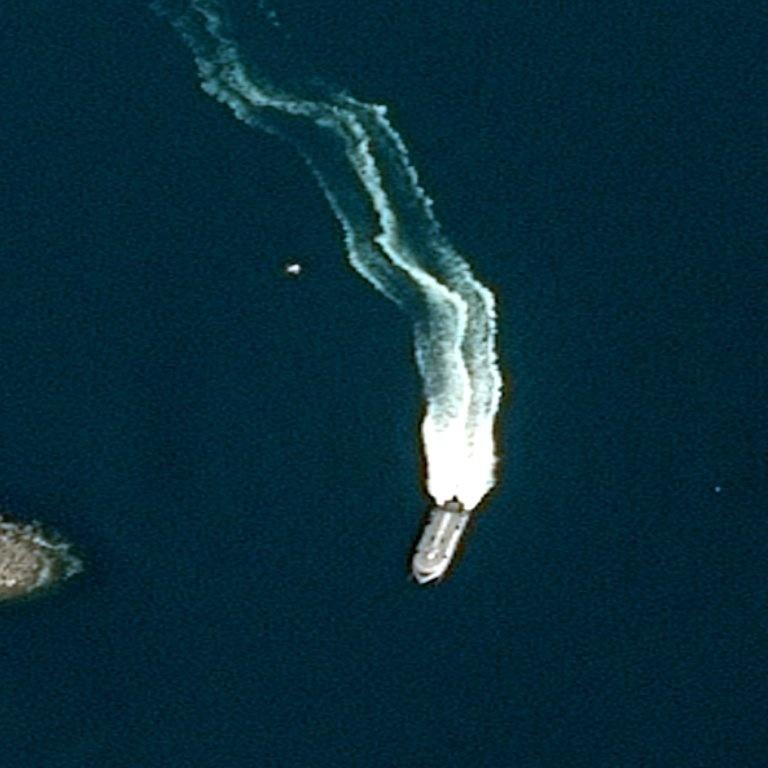ship: (409, 537, 476, 543), (285, 259, 304, 279), (429, 500, 443, 509), (465, 501, 474, 514), (415, 577, 428, 583), (299, 266, 304, 273), (55, 39, 60, 45), (285, 266, 291, 269)
